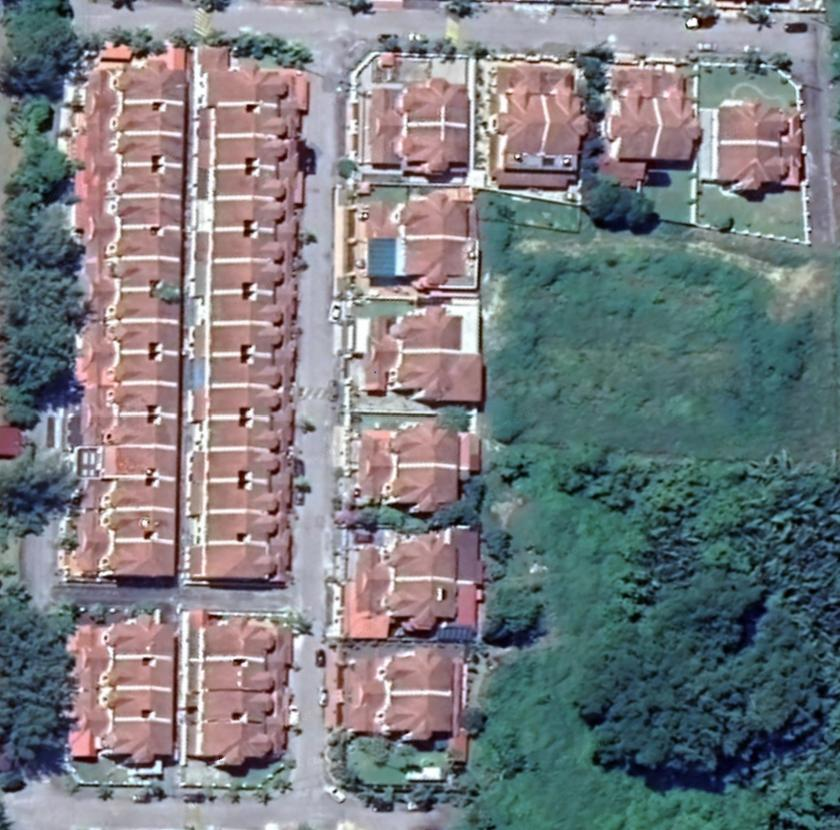building: (194, 40, 311, 112), (328, 692, 463, 748), (352, 530, 480, 585), (601, 64, 662, 179), (350, 419, 481, 470), (336, 585, 476, 632), (364, 236, 478, 291), (365, 354, 485, 405), (701, 141, 806, 199), (366, 304, 484, 355), (495, 63, 548, 172), (364, 188, 476, 239), (648, 65, 705, 165), (68, 722, 180, 772), (335, 646, 459, 690), (539, 60, 589, 169), (355, 465, 476, 510), (361, 76, 472, 124), (364, 124, 468, 175), (200, 718, 289, 772), (198, 614, 294, 662), (702, 101, 802, 145), (86, 614, 180, 659), (99, 318, 184, 356), (199, 656, 293, 689), (201, 544, 292, 578), (89, 690, 184, 722), (210, 136, 298, 170), (101, 257, 187, 291), (100, 195, 181, 231), (108, 65, 182, 104), (95, 542, 175, 578), (203, 514, 289, 547), (210, 321, 286, 358), (199, 688, 284, 721), (106, 131, 186, 166), (208, 170, 297, 201), (212, 230, 293, 264), (101, 352, 181, 386), (202, 482, 292, 512), (207, 357, 286, 391), (211, 200, 294, 232), (210, 415, 288, 449), (95, 480, 177, 512), (94, 659, 181, 689), (100, 165, 184, 196), (102, 290, 180, 323), (103, 230, 186, 261), (205, 388, 285, 420), (109, 101, 185, 134), (105, 385, 181, 418), (100, 447, 175, 480), (207, 452, 292, 481), (100, 418, 182, 448), (205, 112, 298, 138), (210, 261, 288, 292), (209, 292, 286, 323), (100, 511, 179, 540)
